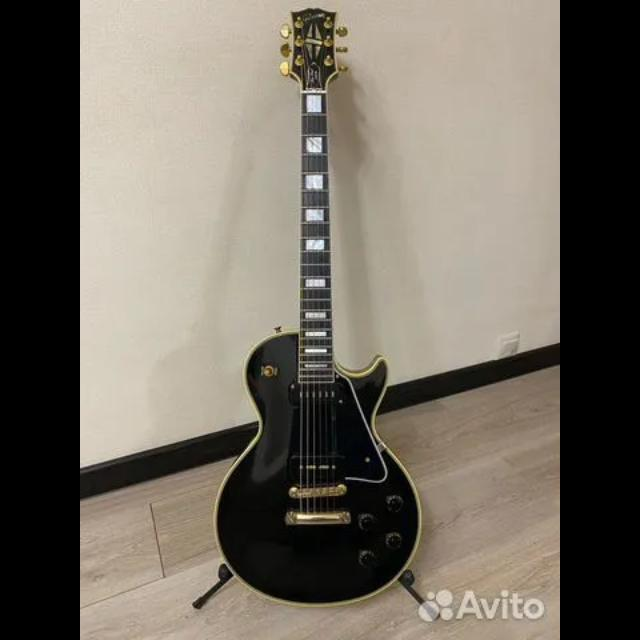Electric-Guitar: (216, 7, 420, 607)
